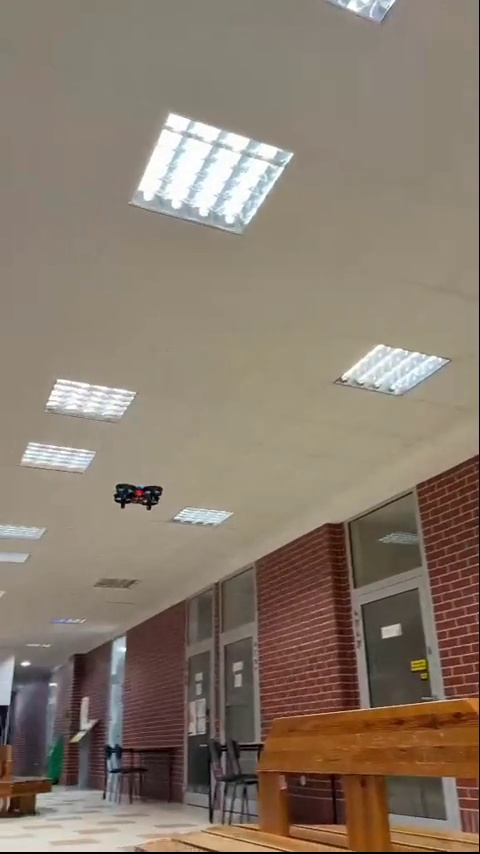drone: (108, 479, 164, 510)
